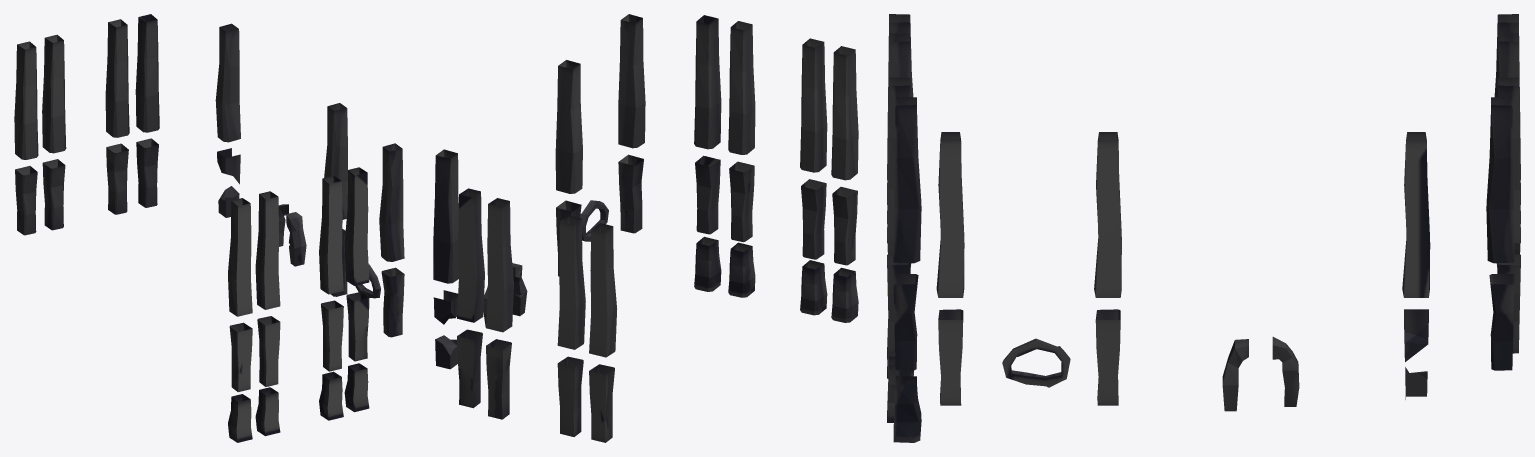
File: Wall_02.FBX
The picture shows the model from 3 angles, left to right: view 1: azimuth 30°, elevation 25°; view 2: azimuth 150°, elevation 25°; view 3: azimuth 270°, elevation 25°; orthographic projection. The views are drawn at different scales.
Visible parts, largest first — view 1: Wall_02; view 2: Wall_02; view 3: Wall_02.
Part boxes in pixels (bbox=[...]): Wall_02: bbox=[14, 14, 404, 442]; Wall_02: bbox=[433, 14, 858, 442]; Wall_02: bbox=[887, 14, 1520, 442].
Size of the model in its own units: 12.35 by 14.84 by 25.38.
